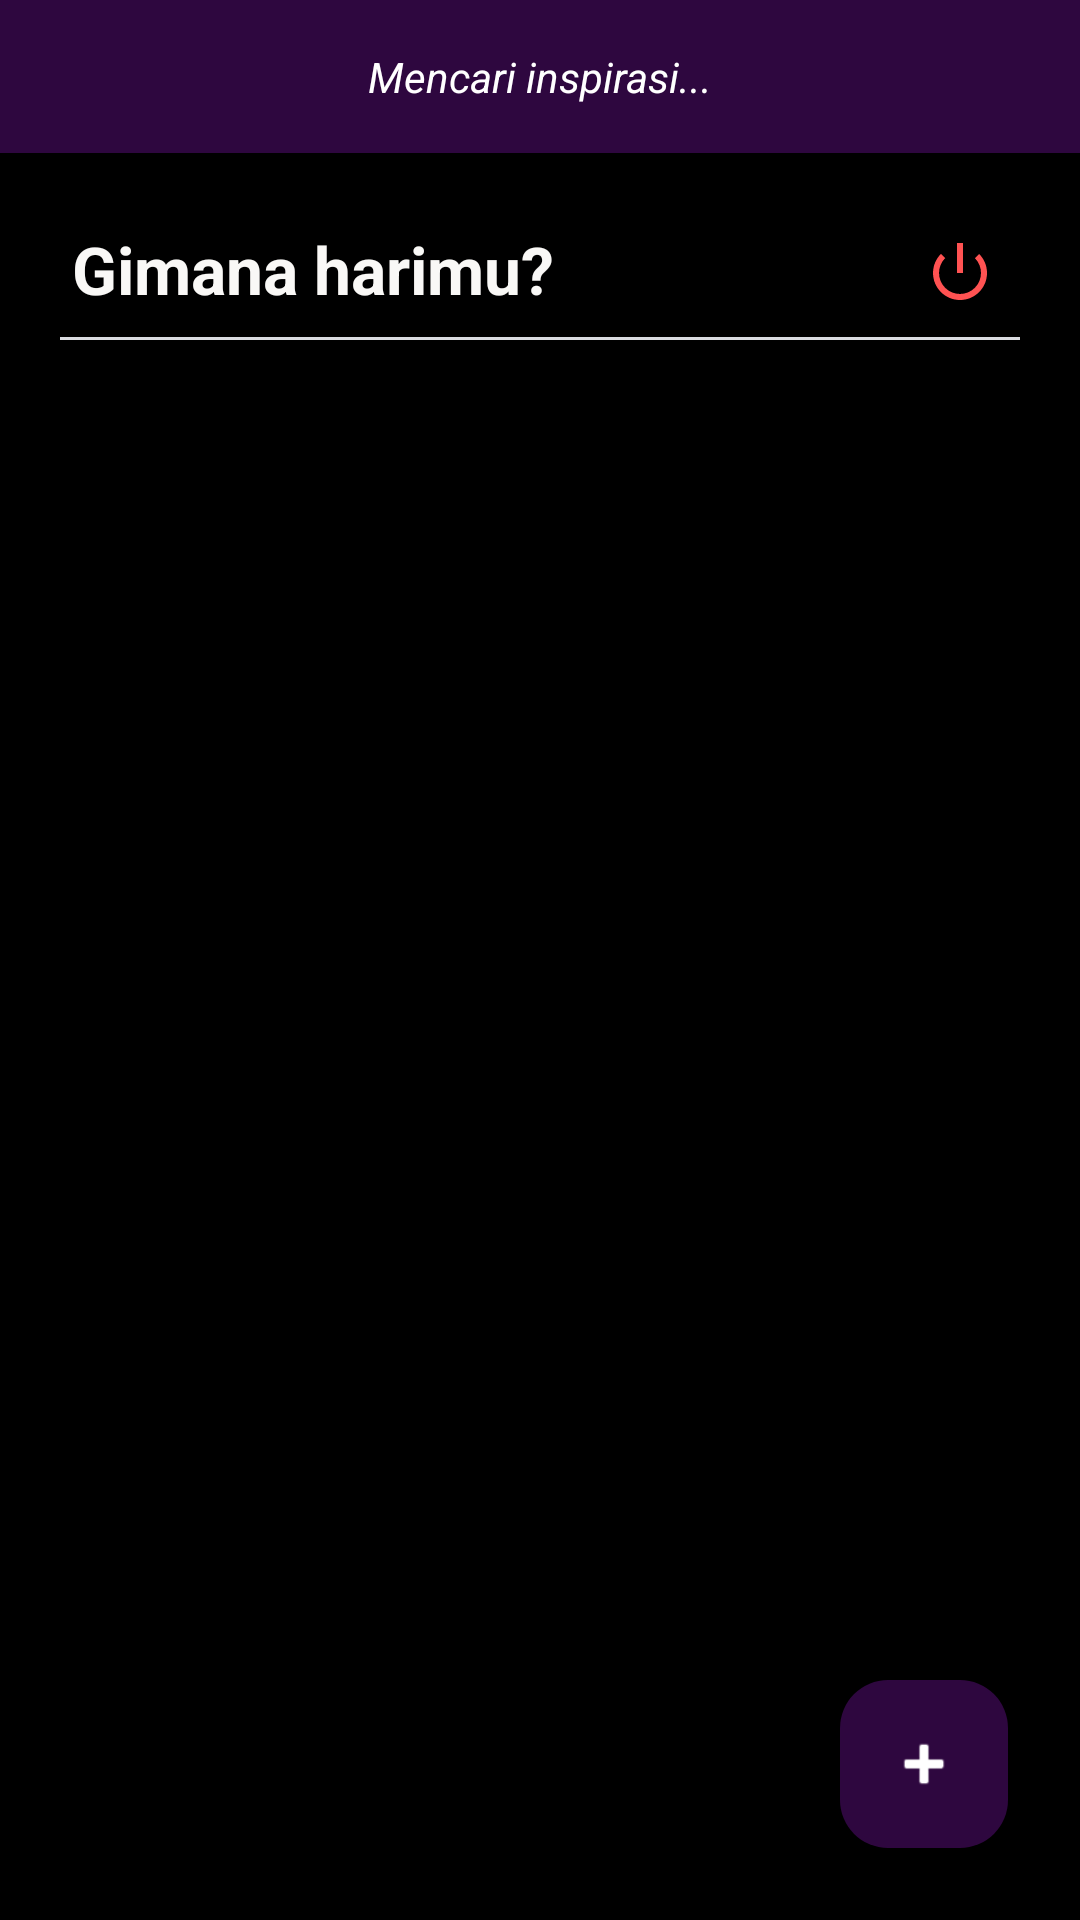

Named icons in this screenshot (1080*1920) and their centers, (x=x, y=y):
Tambah Todo: (x=924, y=1764)
